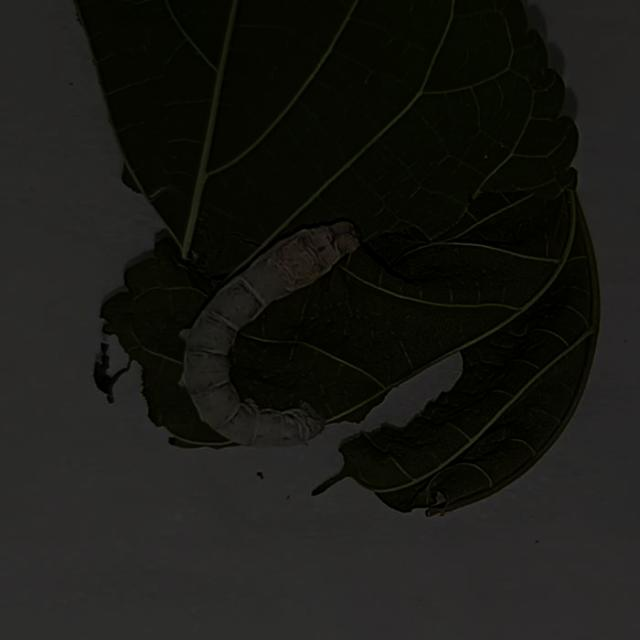Healthy: (176, 210, 367, 461)
